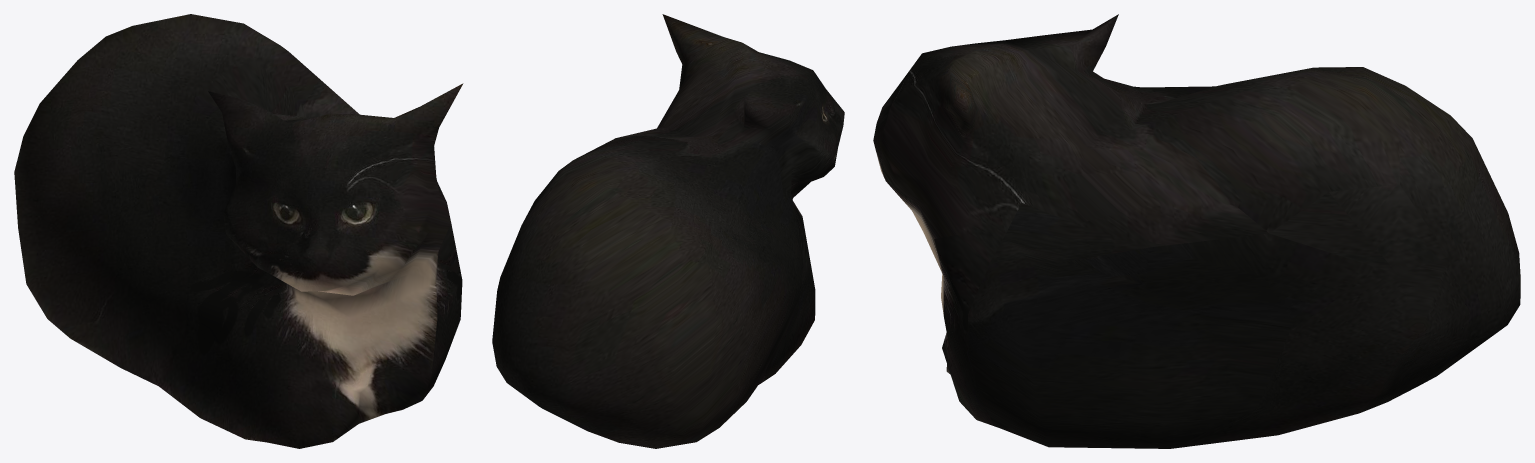
File: cat2.glb
3 views of the same model, side by side, from view 1: azimuth 30°, elevation 25°; view 2: azimuth 150°, elevation 25°; view 3: azimuth 270°, elevation 25° (orthographic). The views are drawn at different scales.
Visible parts, largest first — view 1: Maxwell; view 2: Maxwell; view 3: Maxwell.
Boxes of the visible parts, <box> form: Maxwell: <box>14,14,463,448</box>; Maxwell: <box>492,14,844,448</box>; Maxwell: <box>873,14,1520,448</box>.
Bounding box in the file's own units: 2.06 × 2.45 × 3.87.
Materials: 1 (1 with a texture image).
